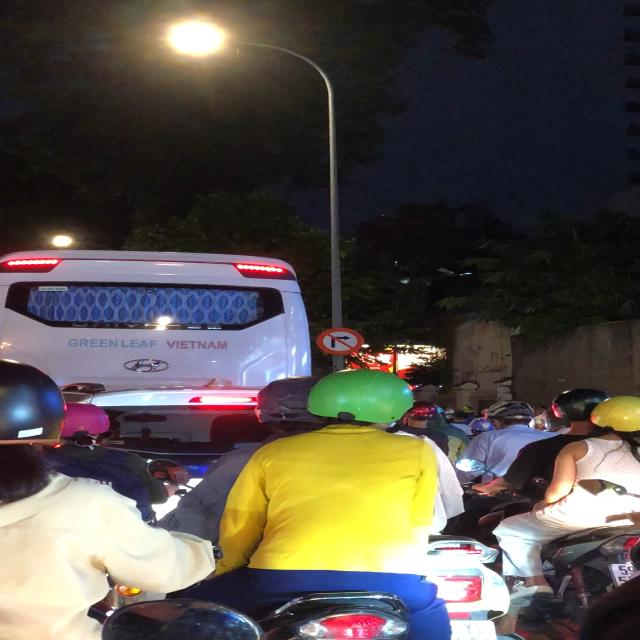Bien bao cam re phai: (313, 327, 367, 358)
